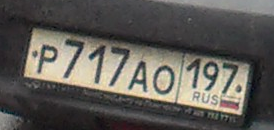character: (107, 40, 130, 92), (85, 39, 107, 85), (63, 37, 85, 82), (150, 61, 176, 99), (33, 42, 60, 77), (128, 58, 150, 94), (219, 57, 239, 96), (184, 58, 202, 93), (202, 58, 220, 93)
